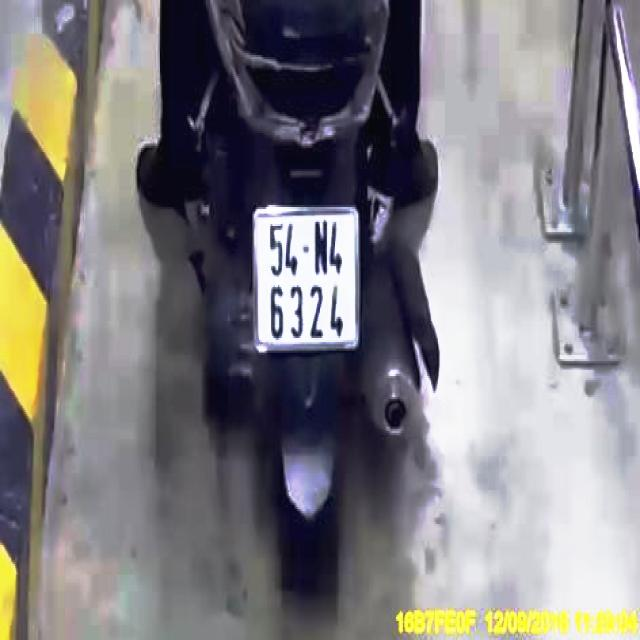license_plate: (255, 212, 362, 347)
